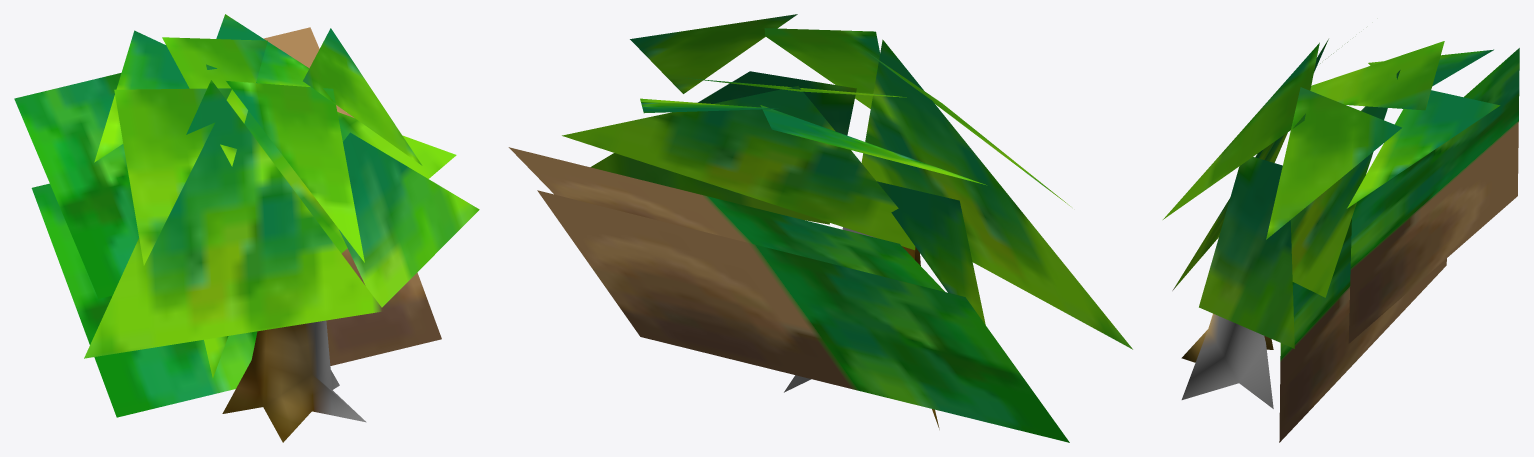
File: fg_bushB_1.dae
3 renders of one model, left to right at view 1: azimuth 30°, elevation 25°; view 2: azimuth 150°, elevation 25°; view 3: azimuth 270°, elevation 25°, orthographic. The views are drawn at different scales.
Parts seen in each view (by area): view 1: fg_bushB_1; view 2: fg_bushB_1; view 3: fg_bushB_1.
Boxes of the visible parts, <box> form: fg_bushB_1: <box>14,14,479,442</box>; fg_bushB_1: <box>508,14,1132,442</box>; fg_bushB_1: <box>1163,39,1519,442</box>.
Bounding box in the file's own units: 34.76 × 25.18 × 25.46.
1 material, 1 textured.
